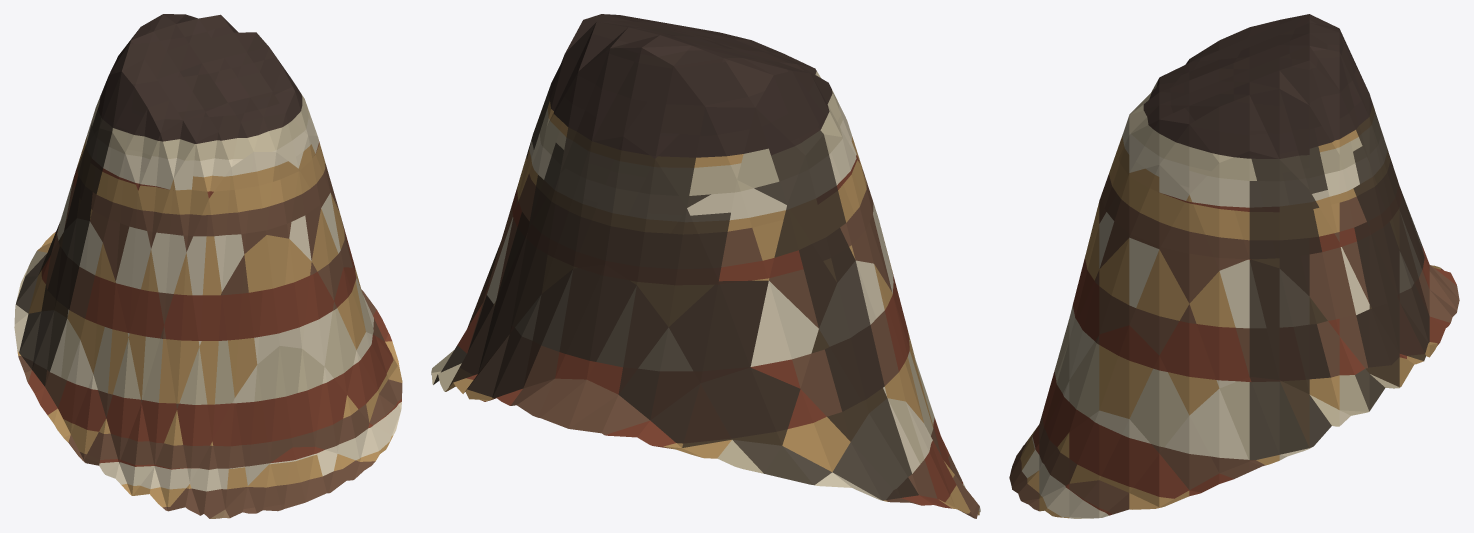
Rendered from dam_eye_fall_spire_west.glb.
3 views of the same model, side by side, from view 1: azimuth 30°, elevation 25°; view 2: azimuth 150°, elevation 25°; view 3: azimuth 270°, elevation 25° (orthographic). The views are drawn at different scales.
Visible parts, largest first — view 1: dam_eye_fall_spire_west; view 2: dam_eye_fall_spire_west; view 3: dam_eye_fall_spire_west.
Boxes of the visible parts, x1,y1,x2,y2 form: dam_eye_fall_spire_west: [14, 14, 402, 518]; dam_eye_fall_spire_west: [431, 14, 980, 518]; dam_eye_fall_spire_west: [1009, 14, 1459, 518].
Size of the model in its own units: 30 by 33.21 by 30.
